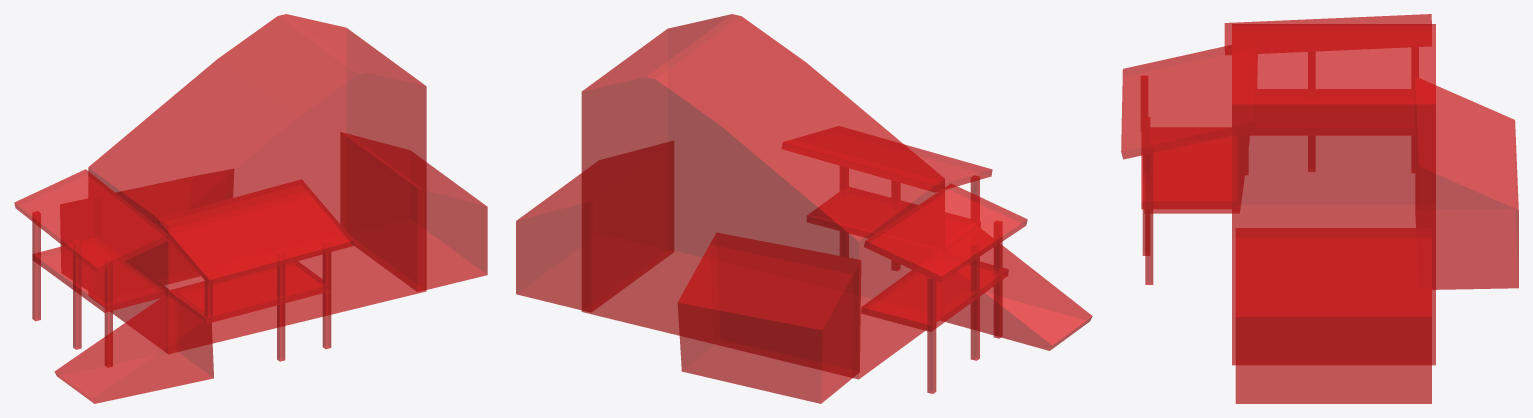
File: SM_Bld_Shanty_Preset_03_Collision.fbx
3 views of the same model, side by side, from view 1: azimuth 30°, elevation 25°; view 2: azimuth 150°, elevation 25°; view 3: azimuth 270°, elevation 25° (orthographic). The views are drawn at different scales.
Visible parts, largest first — view 1: SM_Bld_Shanty_Preset_03_Collision; view 2: SM_Bld_Shanty_Preset_03_Collision; view 3: SM_Bld_Shanty_Preset_03_Collision.
Boxes of the visible parts, bbox=[...] form: SM_Bld_Shanty_Preset_03_Collision: bbox=[14, 14, 487, 403]; SM_Bld_Shanty_Preset_03_Collision: bbox=[516, 14, 1092, 403]; SM_Bld_Shanty_Preset_03_Collision: bbox=[1121, 14, 1518, 403].
Bounding box in the file's own units: 1657 × 876 × 1049.
